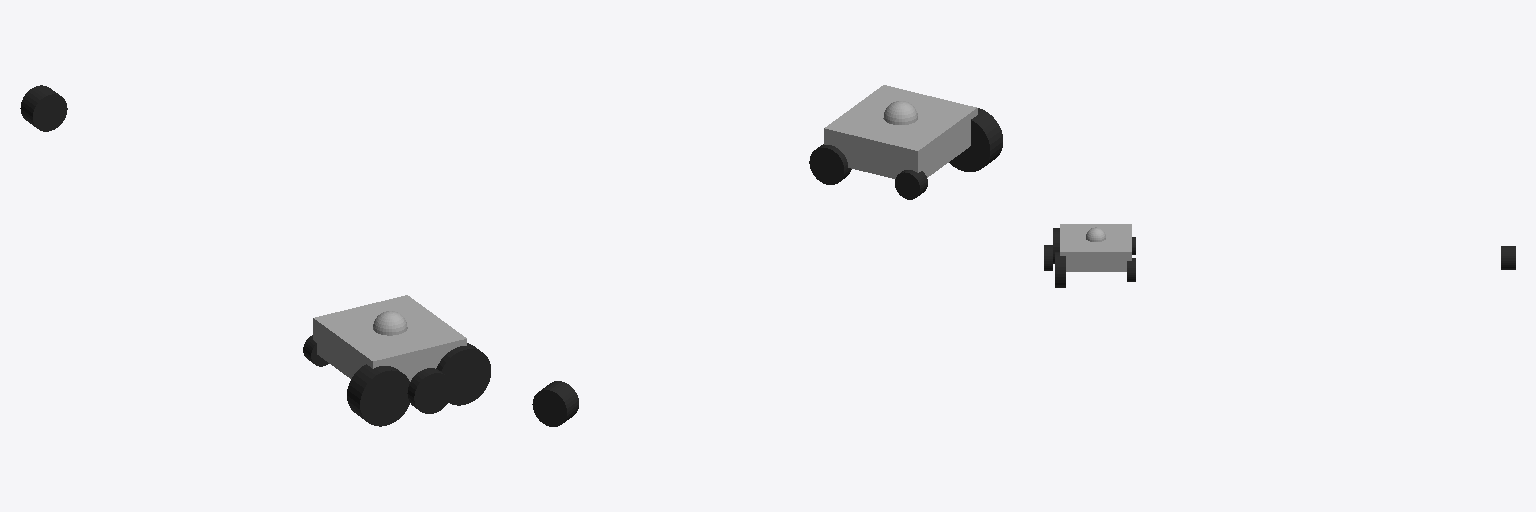
robot.urdf — evolved_robot:
<?xml version="1.0"?>
<robot name="evolved_robot">
  <material name="metal">
    <color rgba="0.7 0.7 0.7 1.0"/>
  </material>
  <material name="plastic">
    <color rgba="0.3 0.3 0.9 1.0"/>
  </material>
  <material name="rubber">
    <color rgba="0.1 0.1 0.1 1.0"/>
  </material>
  <material name="red">
    <color rgba="1.0 0.0 0.0 1.0"/>
  </material>
  <material name="wheel_material">
    <color rgba="0.2 0.2 0.2 1.0"/>
  </material>
  <link name="base_link">
    <visual>
      <geometry><box size="0.28200543666407374 0.3092717348062436 0.09638835181839425"/></geometry>
      <material name="metal"/>
    </visual>
    <collision>
      <geometry><box size="0.28200543666407374 0.3092717348062436 0.09638835181839425"/></geometry>
    </collision>
    <inertial>
      <mass value="5.0"/>
      <inertia ixx="0.08744976693027501" ixy="0" ixz="0" 
               iyy="0.07401481722863455" iyz="0" 
               izz="0.14598006021513196"/>
    </inertial>
  </link>
  <link name="link1">
    <visual>
      <geometry>
        <cylinder radius="0.05276887741149976" length="0.040581285150848495"/>
      </geometry>
      <material name="wheel_material"/>
    </visual>
    <collision>
      <geometry>
        <cylinder radius="0.05276887741149976" length="0.040581285150848495"/>
      </geometry>
    </collision>
    <inertial>
      <mass value="1.0"/>
      <inertia ixx="0.000833375331192012" ixy="0" ixz="0" 
               iyy="0.000833375331192012" iyz="0" 
               izz="0.0013922772116349445"/>
    </inertial>
  </link>
  <joint name="joint1" type="continuous">
    <parent link="base_link"/>
    <child link="link1"/>
    <origin xyz="0.12100271833203687 0.1546358674031218 -0.048194175909197126" rpy="1.5708 0 0"/>
    <axis xyz="0 0 1"/>
    <dynamics damping="0.7812145894427714" friction="0.1"/>
  </joint>
  <link name="link2">
    <visual>
      <geometry>
        <cylinder radius="0.07899620941041051" length="0.04772637766097393"/>
      </geometry>
      <material name="wheel_material"/>
    </visual>
    <collision>
      <geometry>
        <cylinder radius="0.07899620941041051" length="0.04772637766097393"/>
      </geometry>
    </collision>
    <inertial>
      <mass value="1.0"/>
      <inertia ixx="0.00174991753568985" ixy="0" ixz="0" 
               iyy="0.00174991753568985" iyz="0" 
               izz="0.003120200550606715"/>
    </inertial>
  </link>
  <joint name="joint2" type="continuous">
    <parent link="base_link"/>
    <child link="link2"/>
    <origin xyz="0.12100271833203687 -0.1546358674031218 -0.048194175909197126" rpy="1.5708 0 0"/>
    <axis xyz="0 0 1"/>
    <dynamics damping="0.8652752464137597" friction="0.1"/>
  </joint>
  <link name="link3">
    <visual>
      <geometry>
        <cylinder radius="0.03833049783173354" length="0.04153130015957846"/>
      </geometry>
      <material name="wheel_material"/>
    </visual>
    <collision>
      <geometry>
        <cylinder radius="0.03833049783173354" length="0.04153130015957846"/>
      </geometry>
    </collision>
    <inertial>
      <mass value="1.0"/>
      <inertia ixx="0.0005110441737525492" ixy="0" ixz="0" 
               iyy="0.0005110441737525492" iyz="0" 
               izz="0.0007346135320142648"/>
    </inertial>
  </link>
  <joint name="joint3" type="fixed">
    <parent link="base_link"/>
    <child link="link3"/>
    <origin xyz="-0.12100271833203687 0.1546358674031218 -0.048194175909197126" rpy="1.5708 0 0"/>
    <axis xyz="0 0 1"/>
    <dynamics damping="0.69190020288255" friction="0.1"/>
  </joint>
  <link name="link4">
    <visual>
      <geometry>
        <cylinder radius="0.07828401586055114" length="0.06825893183821084"/>
      </geometry>
      <material name="wheel_material"/>
    </visual>
    <collision>
      <geometry>
        <cylinder radius="0.07828401586055114" length="0.06825893183821084"/>
      </geometry>
    </collision>
    <inertial>
      <mass value="1.0"/>
      <inertia ixx="0.0019203702661215486" ixy="0" ixz="0" 
               iyy="0.0019203702661215486" iyz="0" 
               izz="0.0030641935696275116"/>
    </inertial>
  </link>
  <joint name="joint4" type="continuous">
    <parent link="base_link"/>
    <child link="link4"/>
    <origin xyz="-0.12100271833203687 -0.1546358674031218 -0.048194175909197126" rpy="1.5708 0 0"/>
    <axis xyz="0 0 1"/>
    <dynamics damping="0.6849628307493921" friction="0.1"/>
  </joint>
  <link name="link5">
    <visual>
      <geometry><sphere radius="0.045236008522552544"/></geometry>
      <material name="metal"/>
    </visual>
    <collision>
      <geometry><sphere radius="0.045236008522552544"/></geometry>
    </collision>
    <inertial>
      <mass value="0.5"/>
      <inertia ixx="0.0008185185868209786" ixy="0" ixz="0" 
               iyy="0.0008185185868209786" iyz="0" 
               izz="0.0008185185868209786"/>
    </inertial>
  </link>
  <joint name="joint5" type="prismatic">
    <parent link="base_link"/>
    <child link="link5"/>
    <origin xyz="0 0 0.048194175909197126" rpy="0 0 0"/>
    <axis xyz="-0.6312336843756502 0.6089167266362758 0.4803794913733358"/>
    <dynamics damping="0.6997437828580996" friction="0.1"/>
    <limit lower="-0.3644232264120007" upper="0.9926335345686322" effort="100" velocity="100"/>
  </joint>
  <link name="link6">
    <visual>
      <geometry>
        <cylinder radius="0.05738806713836159" length="0.035615665538883054"/>
      </geometry>
      <material name="wheel_material"/>
    </visual>
    <collision>
      <geometry>
        <cylinder radius="0.05738806713836159" length="0.035615665538883054"/>
      </geometry>
    </collision>
    <inertial>
      <mass value="1.0"/>
      <inertia ixx="0.0009290538651174061" ixy="0" ixz="0" 
               iyy="0.0009290538651174061" iyz="0" 
               izz="0.0016466951249385485"/>
    </inertial>
  </link>
  <joint name="joint6" type="continuous">
    <parent link="base_link"/>
    <child link="link6"/>
    <origin xyz="0 -0.20618115653749572 -0.048194175909197126" rpy="1.5708 0 0"/>
    <axis xyz="0 0 1"/>
    <dynamics damping="0.9290833390612818" friction="0.1"/>
  </joint>
  <link name="link7">
    <visual>
      <geometry>
        <cylinder radius="0.052164150246627745" length="0.06331306911389174"/>
      </geometry>
      <material name="wheel_material"/>
    </visual>
    <collision>
      <geometry>
        <cylinder radius="0.052164150246627745" length="0.06331306911389174"/>
      </geometry>
    </collision>
    <inertial>
      <mass value="1.0"/>
      <inertia ixx="0.0010143200361232244" ixy="0" ixz="0" 
               iyy="0.0010143200361232244" iyz="0" 
               izz="0.0013605492854763767"/>
    </inertial>
  </link>
  <joint name="joint7" type="continuous">
    <parent link="base_link"/>
    <child link="link7"/>
    <origin xyz="0 1.7938188434625042 -0.048194175909197126" rpy="1.5708 0 0"/>
    <axis xyz="0 0 1"/>
    <dynamics damping="0.1" friction="0.1"/>
  </joint>
</robot>

--- What the picture shows (computed from the rendered views, not written in the file) ---
3 views of the same robot in one strip: view 1: azimuth 30°, elevation 25°; view 2: azimuth 150°, elevation 25°; view 3: azimuth 270°, elevation 25° (orthographic).
Robot: evolved_robot — 8 links, 7 joints (5 continuous, 1 prismatic, 1 fixed); root link base_link; default pose: all joints at 0.
Links seen in each view (by area): view 1: base_link, link4, link2, link7, link6, link5; view 2: base_link, link4, link7, link1, link3, link5; view 3: base_link.
Link boxes in pixels (x1=…): base_link: x1=313, y1=295, x2=466, y2=381; link4: x1=347, y1=364, x2=409, y2=426; link2: x1=436, y1=343, x2=490, y2=405; link7: x1=20, y1=85, x2=67, y2=131; link6: x1=407, y1=368, x2=452, y2=413; link5: x1=373, y1=311, x2=407, y2=335; base_link: x1=824, y1=85, x2=977, y2=178; link4: x1=949, y1=108, x2=1002, y2=171; link7: x1=532, y1=381, x2=578, y2=426; link1: x1=809, y1=144, x2=851, y2=184; link3: x1=895, y1=170, x2=927, y2=199; link5: x1=883, y1=101, x2=917, y2=124; base_link: x1=1060, y1=224, x2=1131, y2=271.
Bounding box of the posed robot: 0.3993 × 2.05 × 0.2206 m (x, y, z).
Geometry: primitives only (box / cylinder / sphere), no mesh files.